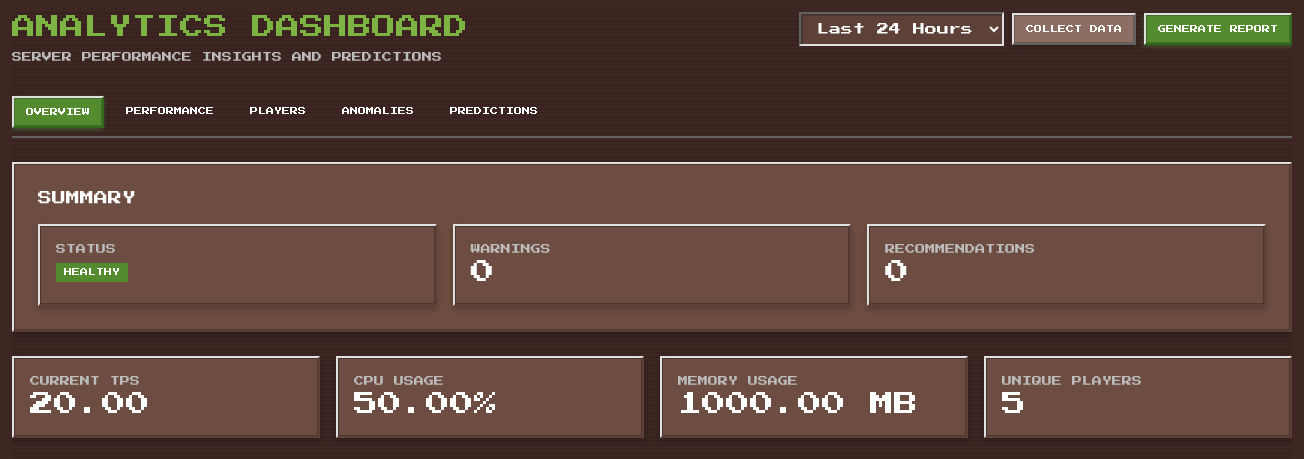
Analytics › switches to players tab
The width and height of the screenshot is (1304, 459).
Expected: the heading "Summary" is shown, [38,191,136,205]
Click the button "PLAYERS": {"x": 278, "y": 112} [236,96,320,128]
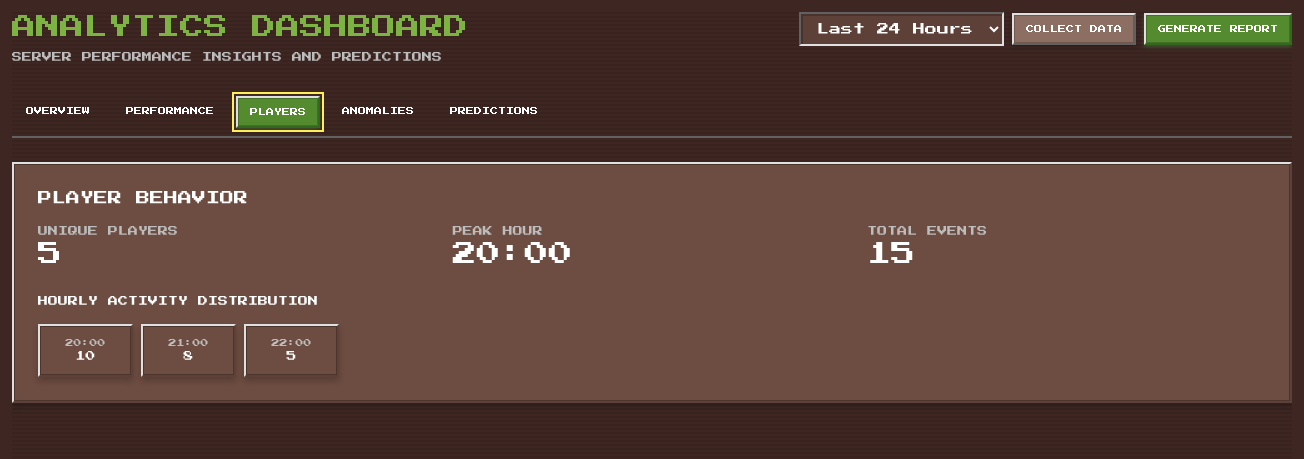
Result: the heading "Player Behavior" is shown at [38,191,248,205]
